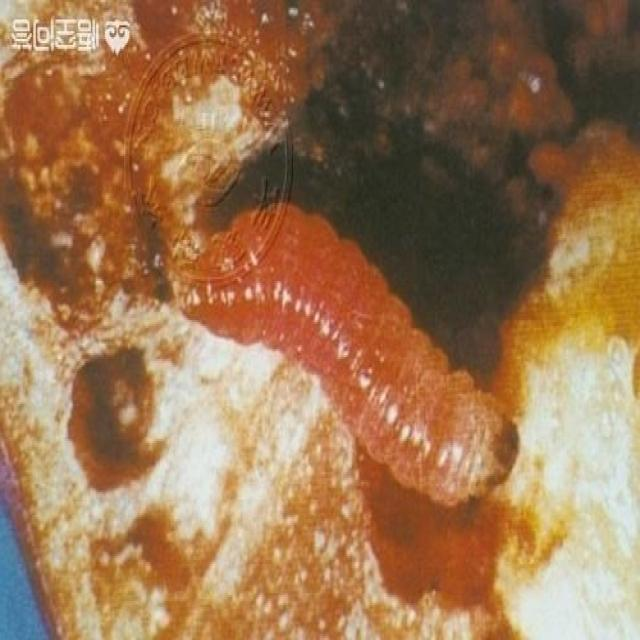peach borer: (155, 203, 513, 513)
